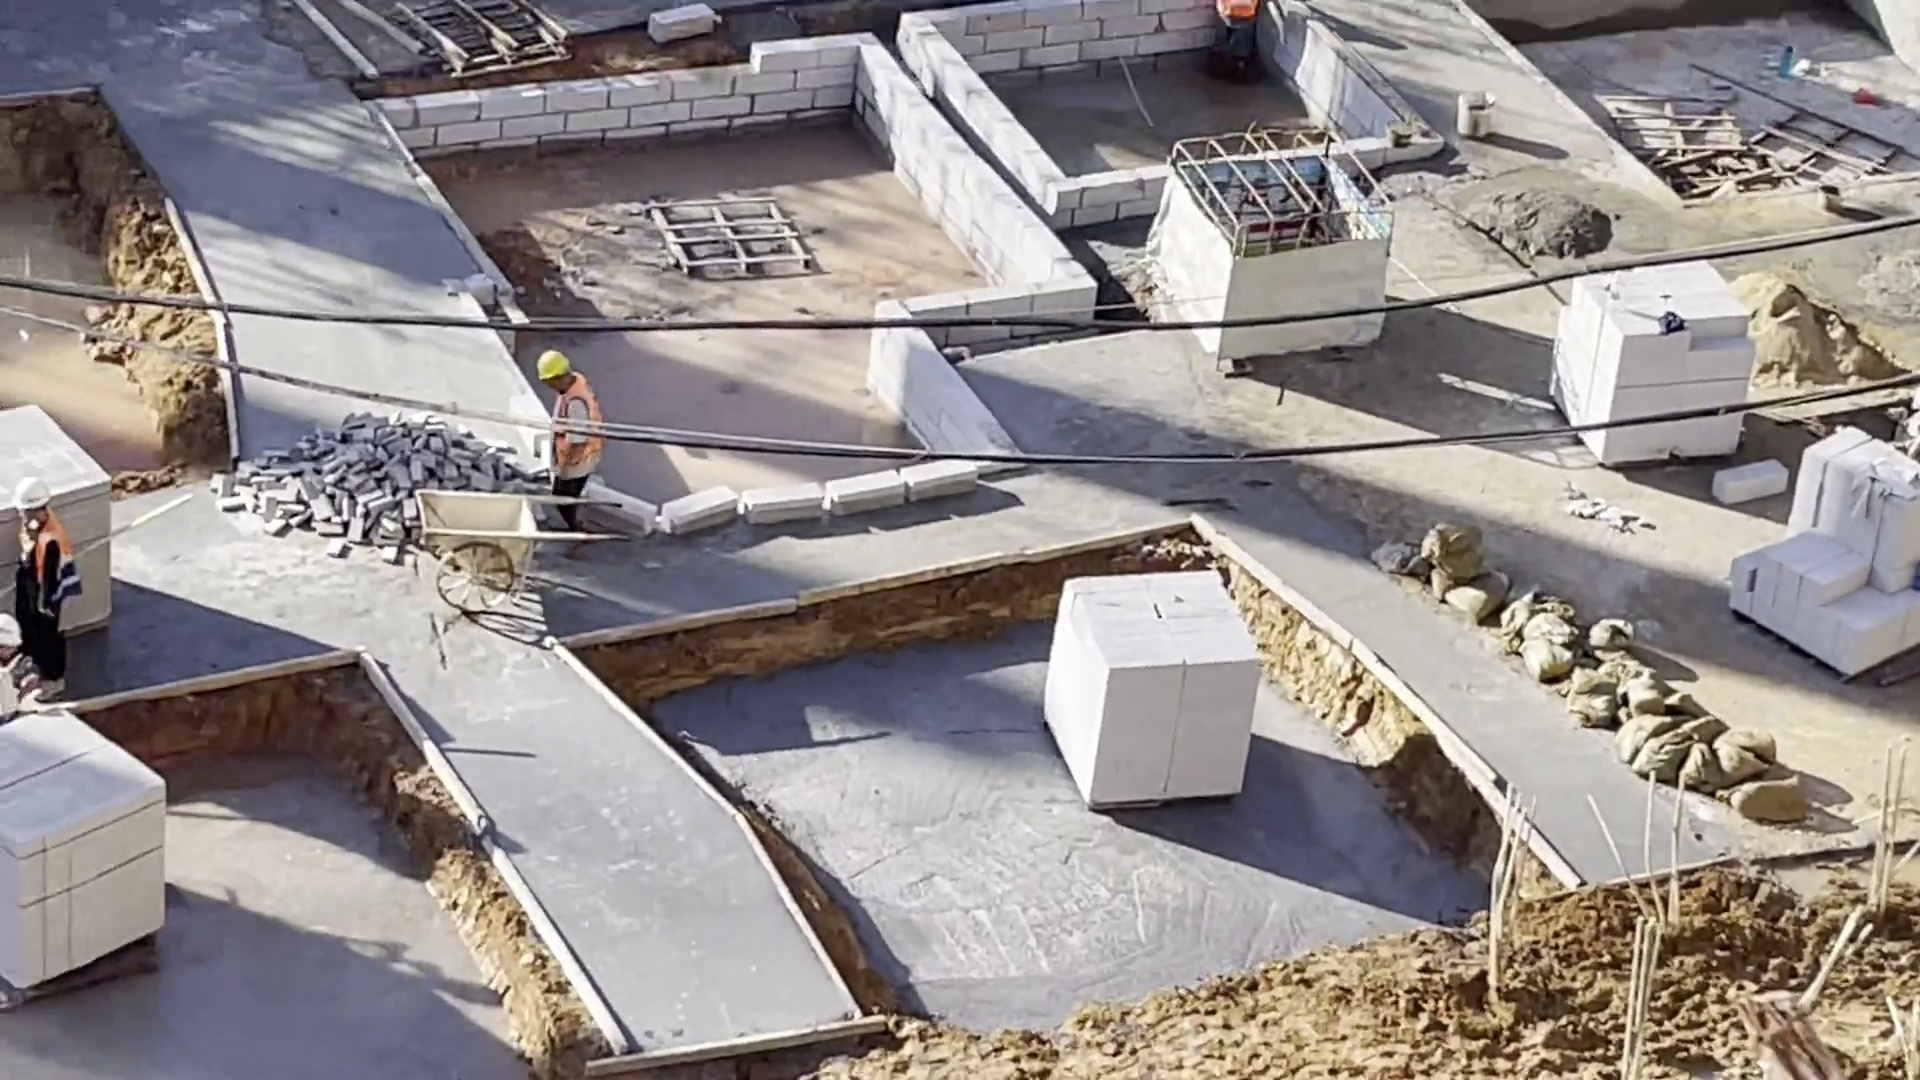brick: (1046, 560, 1265, 813), (1706, 420, 1920, 676), (4, 712, 172, 998), (1552, 280, 1757, 409)
handcart: (407, 482, 548, 615)
helmet: (540, 346, 571, 383), (15, 481, 49, 507)
person: (534, 343, 618, 564), (7, 479, 88, 700), (1207, 1, 1279, 82)
vest: (18, 519, 84, 603), (553, 376, 607, 473)
